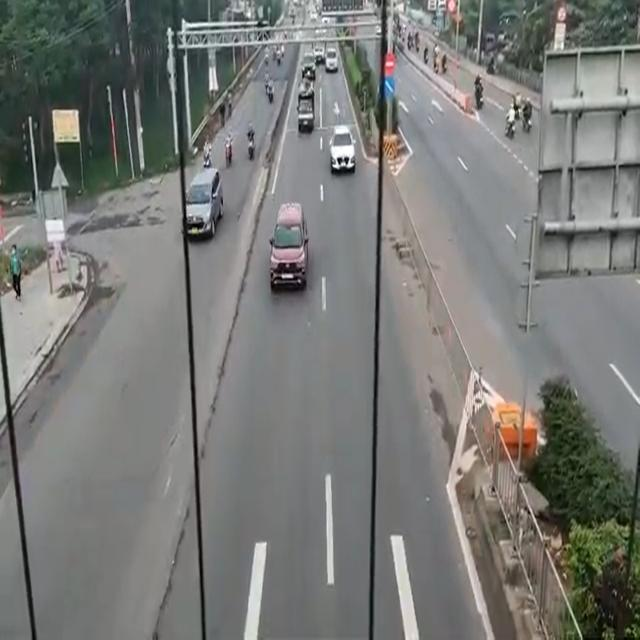car: (270, 200, 312, 301), (188, 168, 219, 244), (326, 129, 356, 183)
motorbike: (222, 135, 236, 175), (246, 121, 259, 164)
truck: (296, 82, 316, 134)
